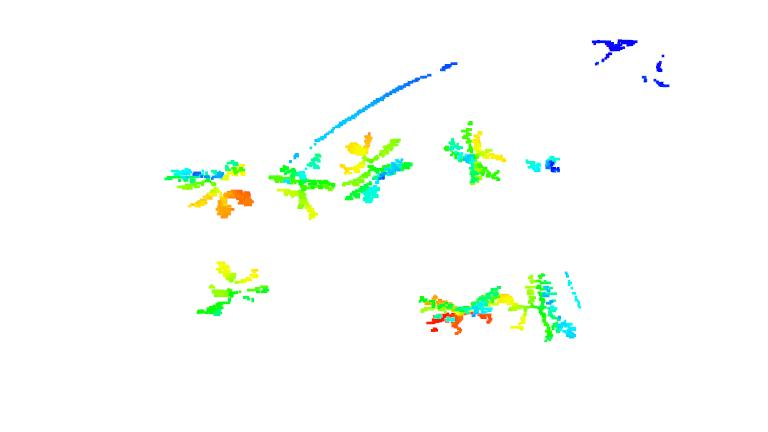chickpea: (498, 272, 580, 344), (165, 157, 256, 221), (338, 132, 416, 204), (191, 259, 272, 319), (444, 117, 511, 187), (417, 282, 503, 335), (270, 152, 335, 220)
